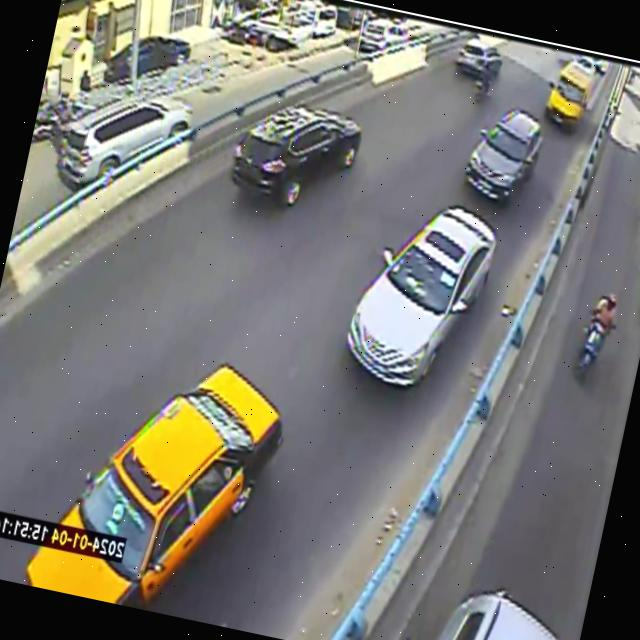car: (26, 365, 283, 608), (347, 206, 496, 386), (231, 105, 362, 206), (57, 96, 192, 189), (466, 109, 542, 201), (547, 61, 594, 128), (455, 37, 502, 80)
